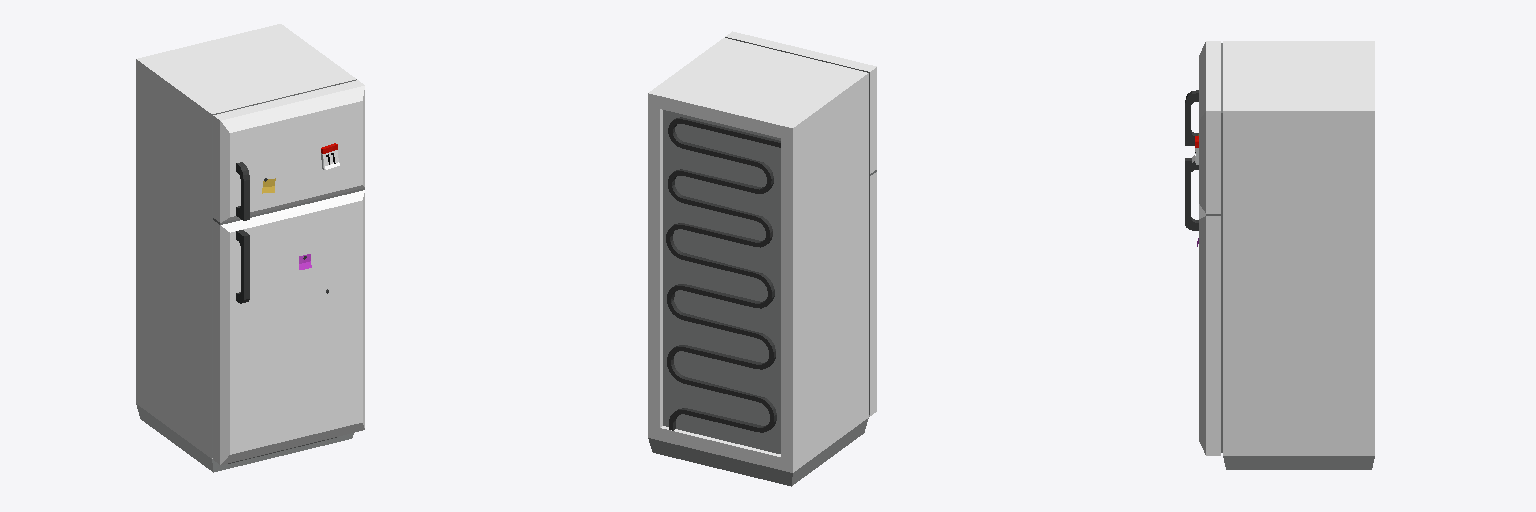
3 renders of one model, left to right at view 1: azimuth 30°, elevation 25°; view 2: azimuth 150°, elevation 25°; view 3: azimuth 270°, elevation 25°, orthographic.
Size of the model in its own units: 0.7646 by 1.81 by 0.8694.
1 materials, 1 textured.